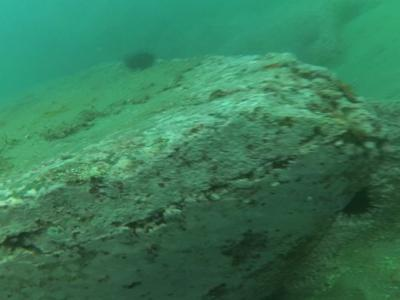holothurian: (37, 107, 102, 140)
urchin: (342, 186, 374, 218), (125, 52, 154, 70)
